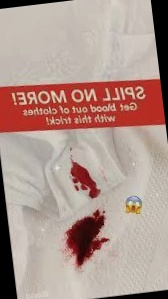blood: (61, 211, 111, 269), (69, 159, 102, 201)
